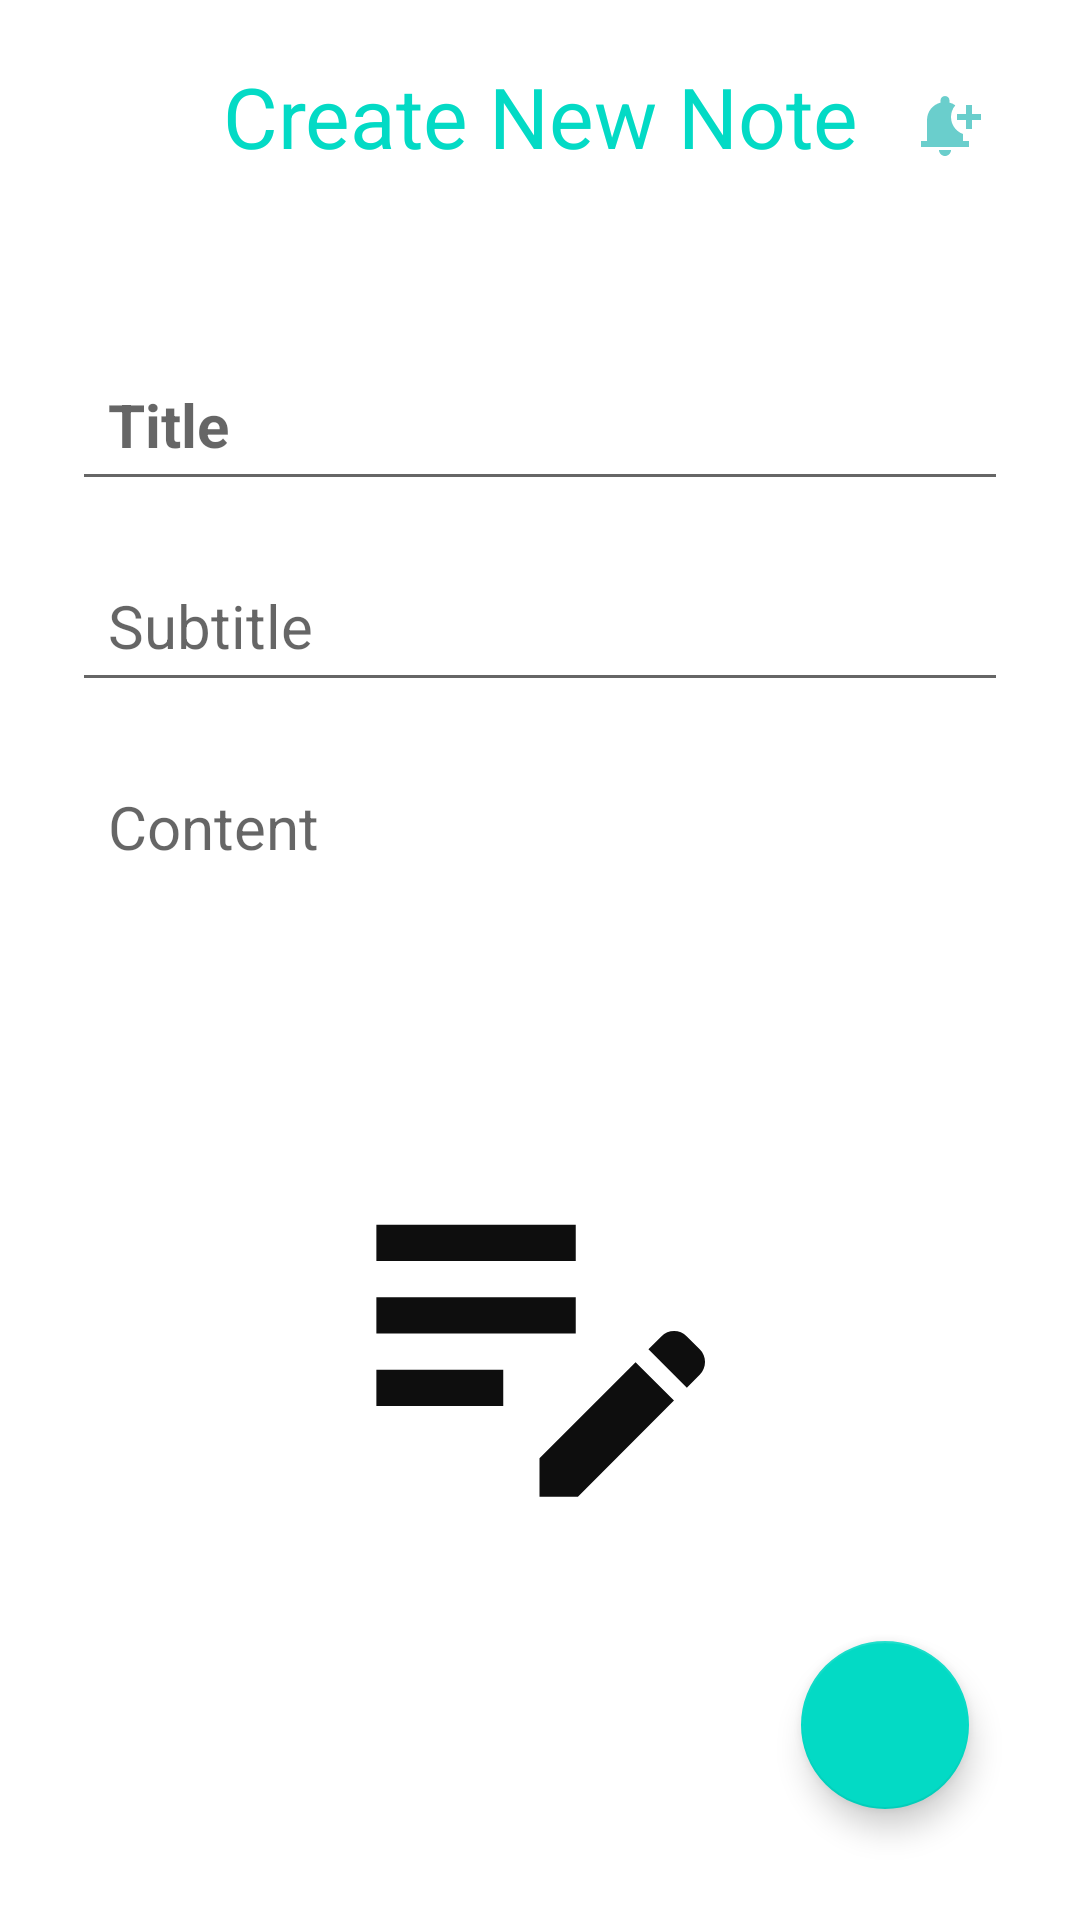

Icons on this 1080px×1920px Android screen, each with its box as bbox(x1, y1, x2, y2):
edit note: bbox(376, 1224, 705, 1497)
notification reminder: bbox(921, 96, 981, 156)
